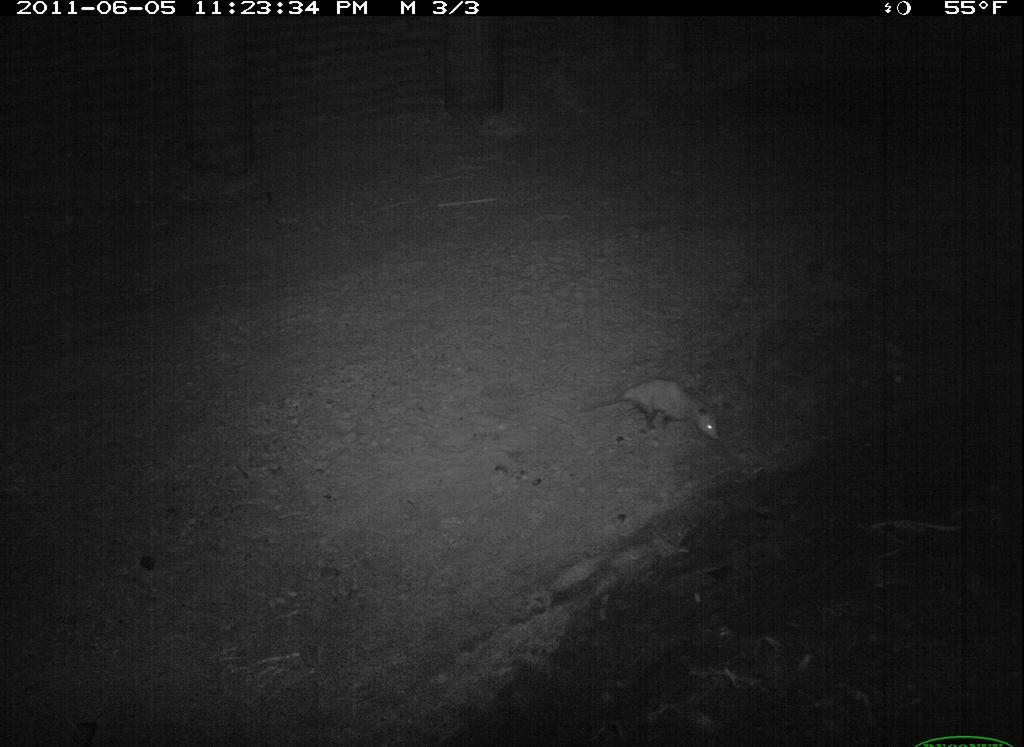opossum: (579, 368, 731, 459)
